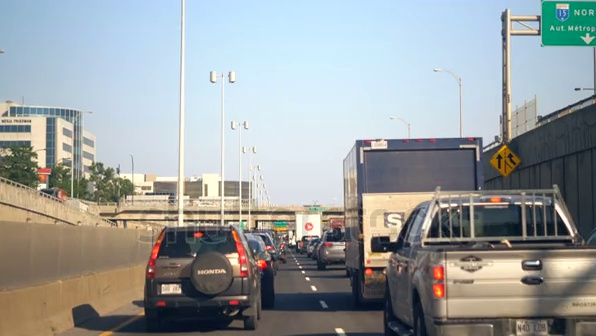licenseplate: (514, 317, 552, 336), (155, 284, 184, 299)
